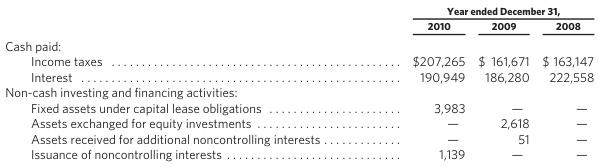table: (4, 3, 593, 160)
table column: (4, 3, 365, 160), (365, 3, 470, 160), (470, 3, 535, 160), (535, 3, 593, 160)
table column header: (4, 3, 593, 34)
table projected row header: (4, 34, 593, 52), (4, 83, 593, 99)
table row: (4, 34, 593, 52), (4, 17, 593, 34), (4, 52, 593, 68), (4, 83, 593, 99), (4, 114, 593, 130), (4, 68, 593, 83), (4, 99, 593, 114), (4, 130, 593, 145), (4, 145, 593, 160), (4, 3, 593, 17)
table spanning cell: (365, 3, 593, 17)
